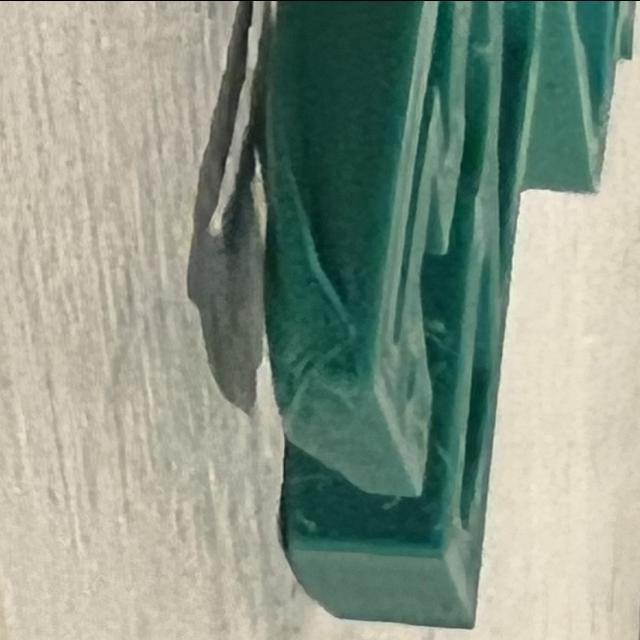Warping: (234, 34, 354, 382)
